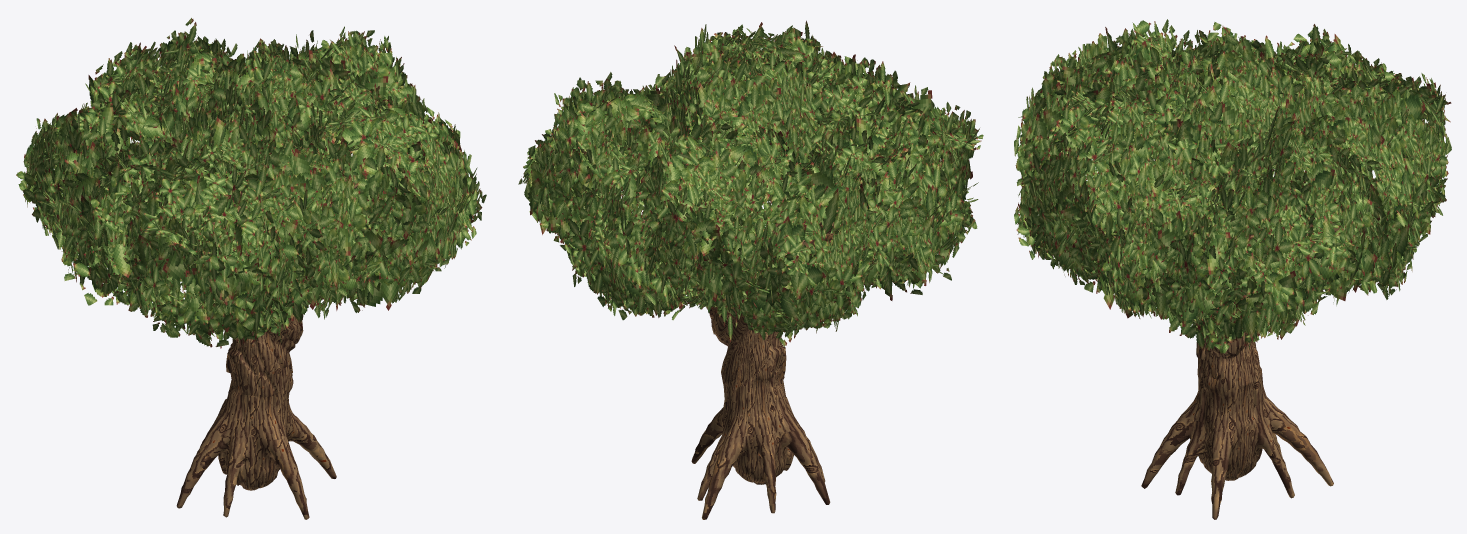
File: macieira_reta_LOD_C.glb
3 renders of one model, left to right at view 1: azimuth 30°, elevation 25°; view 2: azimuth 150°, elevation 25°; view 3: azimuth 270°, elevation 25°, orthographic. The views are drawn at different scales.
Parts seen in each view (by area): view 1: macieira_inclinada; view 2: macieira_inclinada; view 3: macieira_inclinada.
Boxes of the visible parts, left/top/right/bottom form: macieira_inclinada: left=16, top=18, right=486, bottom=519; macieira_inclinada: left=518, top=20, right=983, bottom=519; macieira_inclinada: left=1014, top=19, right=1451, bottom=519.
Bounding box in the file's own units: 5.96 × 6.43 × 5.6.
2 materials, 2 textured.
